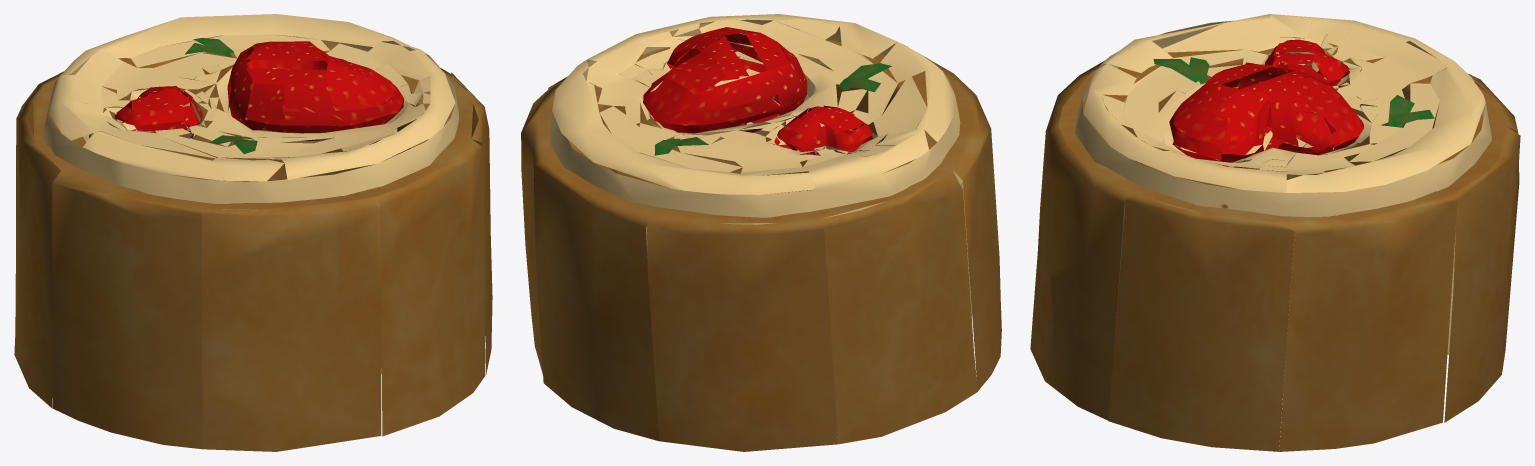
File: Tart.002_LOD1.fbx
3 views of the same model, side by side, from view 1: azimuth 30°, elevation 25°; view 2: azimuth 150°, elevation 25°; view 3: azimuth 270°, elevation 25° (orthographic).
Visible parts, largest first — view 1: Tart_002_Tart_002_0; view 2: Tart_002_Tart_002_0; view 3: Tart_002_Tart_002_0.
Boxes of the visible parts, x1,y1,x2,y2 form: Tart_002_Tart_002_0: (14, 14, 492, 451); Tart_002_Tart_002_0: (521, 14, 1001, 451); Tart_002_Tart_002_0: (1030, 14, 1520, 451).
Bounding box in the file's own units: 56.67 × 38.44 × 57.9.
1 material, 1 textured.
